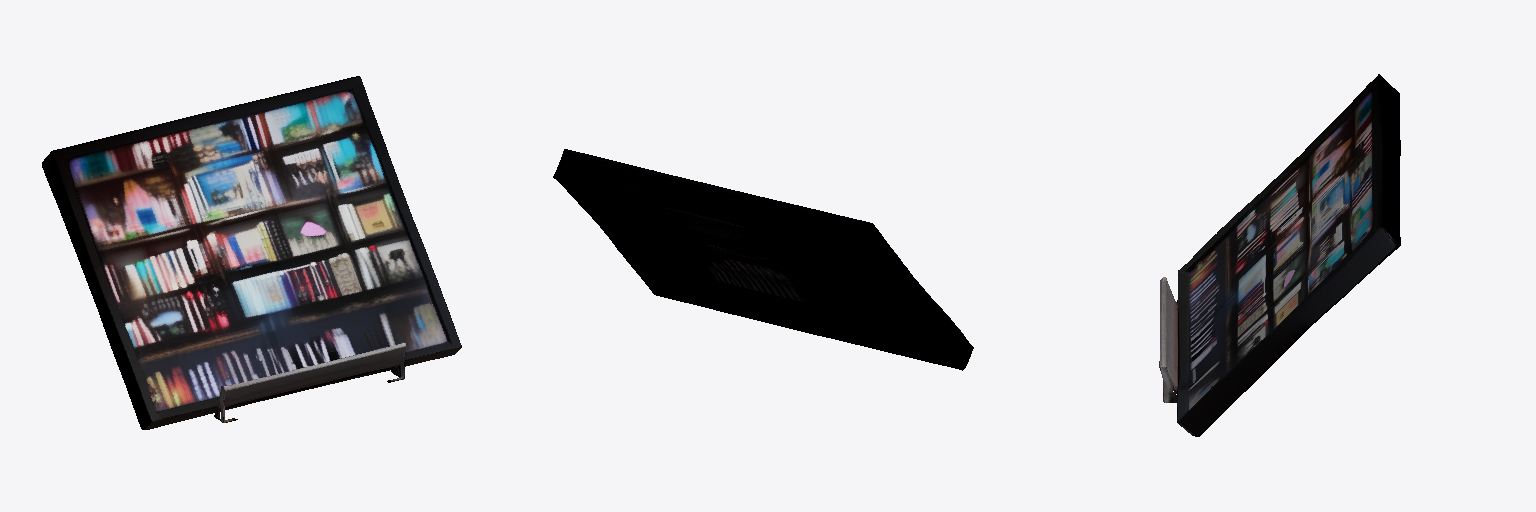
3 views of the same model, side by side, from view 1: azimuth 30°, elevation 25°; view 2: azimuth 150°, elevation 25°; view 3: azimuth 270°, elevation 25° (orthographic).
Visible parts, largest first — view 1: geometry_0; view 2: geometry_0; view 3: geometry_0.
Part boxes in pixels (x1,y1,x2,y2): geometry_0: (42, 76, 461, 429); geometry_0: (553, 149, 973, 370); geometry_0: (1159, 74, 1400, 436).
Size of the model in its own units: 1 by 0.6573 by 0.6739.
1 materials, 1 textured.